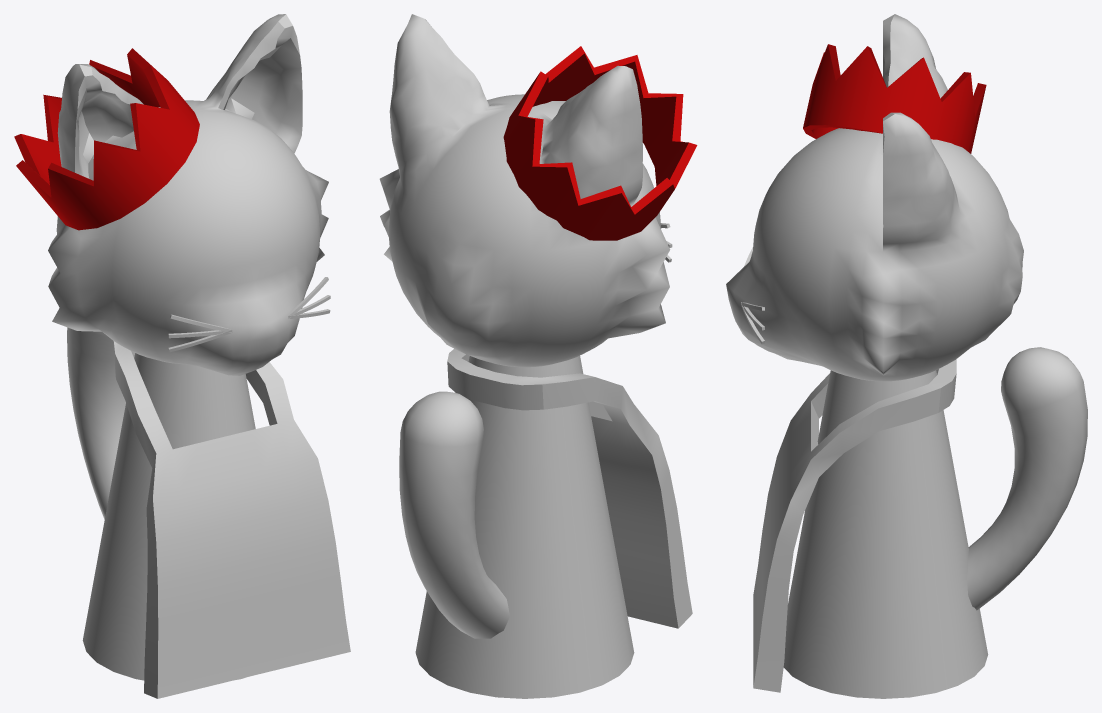
Rendered from GatoLider.fbx.
3 renders of one model, left to right at view 1: azimuth 30°, elevation 25°; view 2: azimuth 150°, elevation 25°; view 3: azimuth 270°, elevation 25°, orthographic. The views are drawn at different scales.
Parts seen in each view (by area): view 1: Cuerpo; view 2: Cuerpo; view 3: Cuerpo.
Part boxes in pixels (x1,y1,x2,y2): Cuerpo: (14,14,350,698); Cuerpo: (379,14,697,698); Cuerpo: (726,14,1087,698).
Bounding box in the file's own units: 74.83 × 143 × 79.32.
